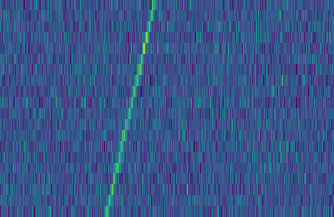signal: (101, 0, 161, 217)
